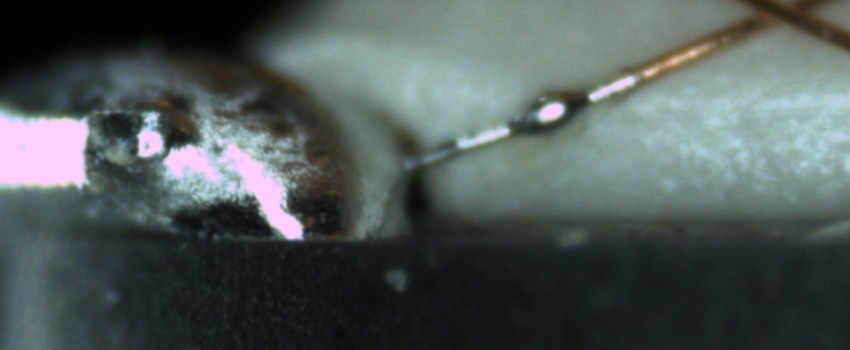CL: (736, 0, 825, 31)
DL: (636, 73, 849, 137)
TB: (517, 84, 580, 140)
TS: (401, 72, 639, 169)
TTCW: (407, 51, 668, 173)
